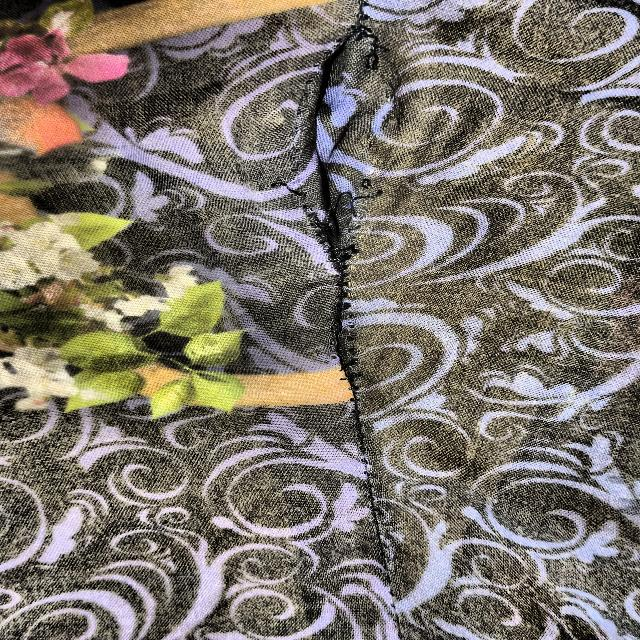seam: (212, 11, 472, 479)
